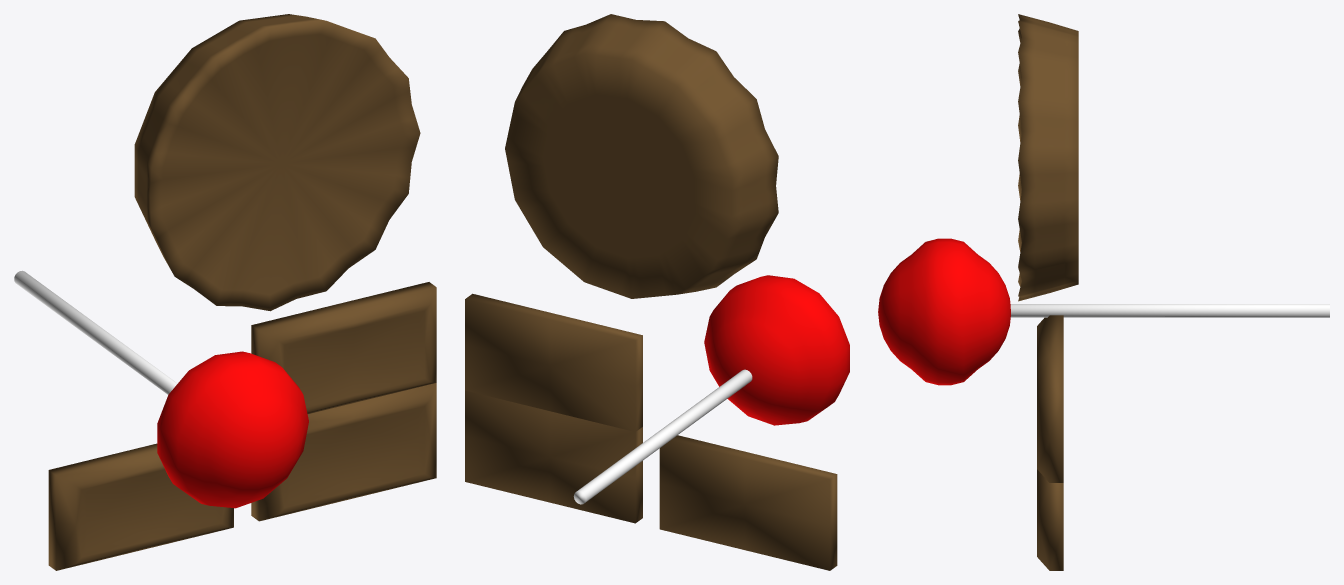
Rendered from Candy.obj.
3 renders of one model, left to right at view 1: azimuth 30°, elevation 25°; view 2: azimuth 150°, elevation 25°; view 3: azimuth 270°, elevation 25°, orthographic. The views are drawn at different scales.
Visible parts, largest first — view 1: PnutButterCup_0, DoubleChoco_0, Lollipop_3, Chocolate_0, Lollipop_2; view 2: PnutButterCup_0, DoubleChoco_0, Chocolate_0, Lollipop_3, Lollipop_2; view 3: PnutButterCup_0, Lollipop_3, DoubleChoco_0, Lollipop_2.
Boxes of the visible parts, box(x1,y1,x2,y2) form: PnutButterCup_0: box(134, 14, 420, 311); DoubleChoco_0: box(251, 282, 436, 521); Lollipop_3: box(157, 351, 308, 508); Chocolate_0: box(48, 443, 233, 570); Lollipop_2: box(14, 270, 177, 394); PnutButterCup_0: box(505, 14, 778, 298); DoubleChoco_0: box(465, 293, 642, 523); Chocolate_0: box(659, 435, 837, 570); Lollipop_3: box(704, 275, 849, 425); Lollipop_2: box(573, 369, 752, 504); PnutButterCup_0: box(1018, 14, 1078, 301); Lollipop_3: box(878, 238, 1010, 385); DoubleChoco_0: box(1037, 315, 1063, 570); Lollipop_2: box(1010, 304, 1329, 317).
Bounding box in the file's own units: 12.52 × 15.94 × 13.97.
